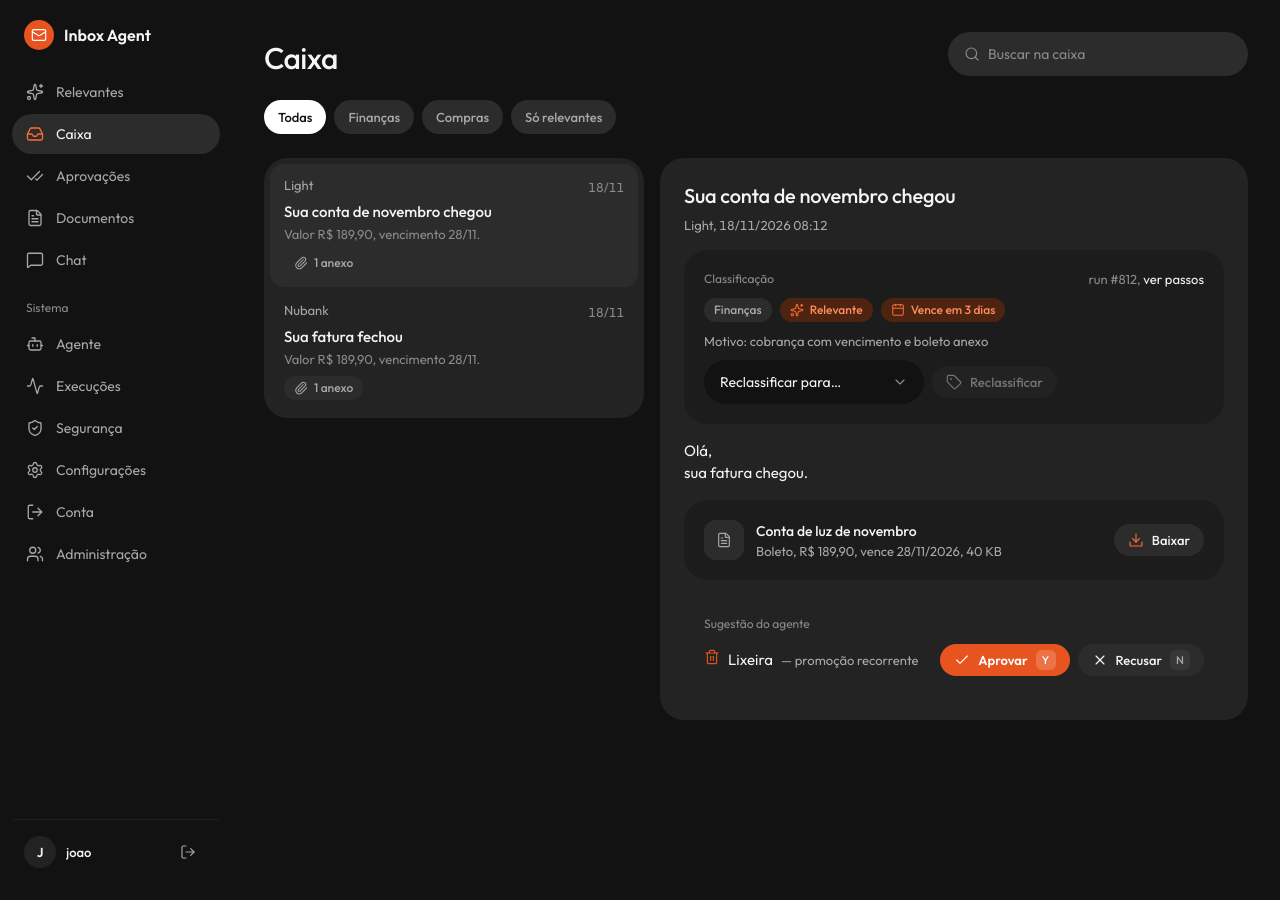
reclassify_needs_a_category_then_posts_it
The image size is (1280, 900).
Expected: the button "Reclassificar" is disabled, [932,366,1057,398]
Select "Compras" in the dropdown named "Nova categoria" at x=802, y=382, box [720,372,884,392]
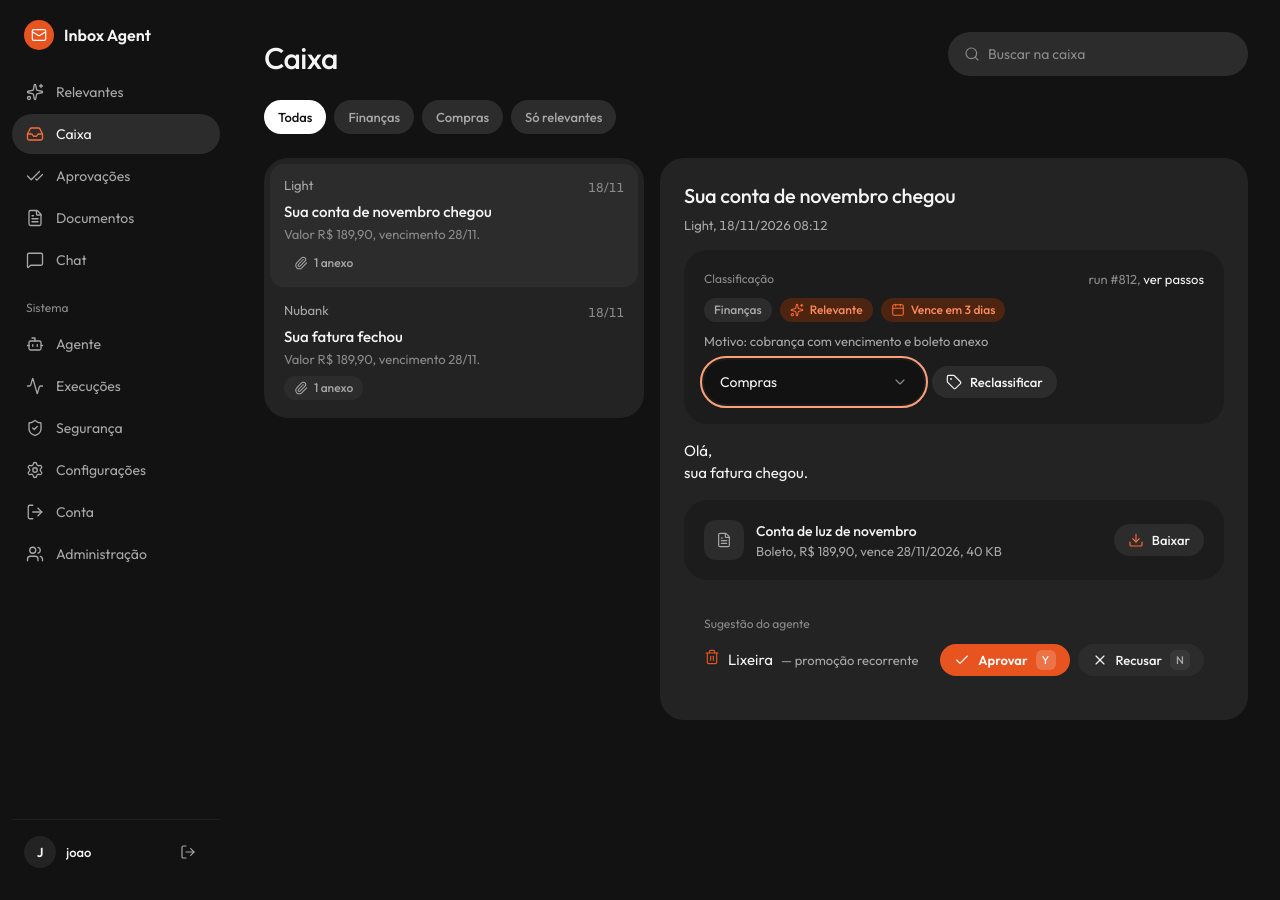
Click the button "Reclassificar" at x=994, y=382, box [932,366,1057,398]
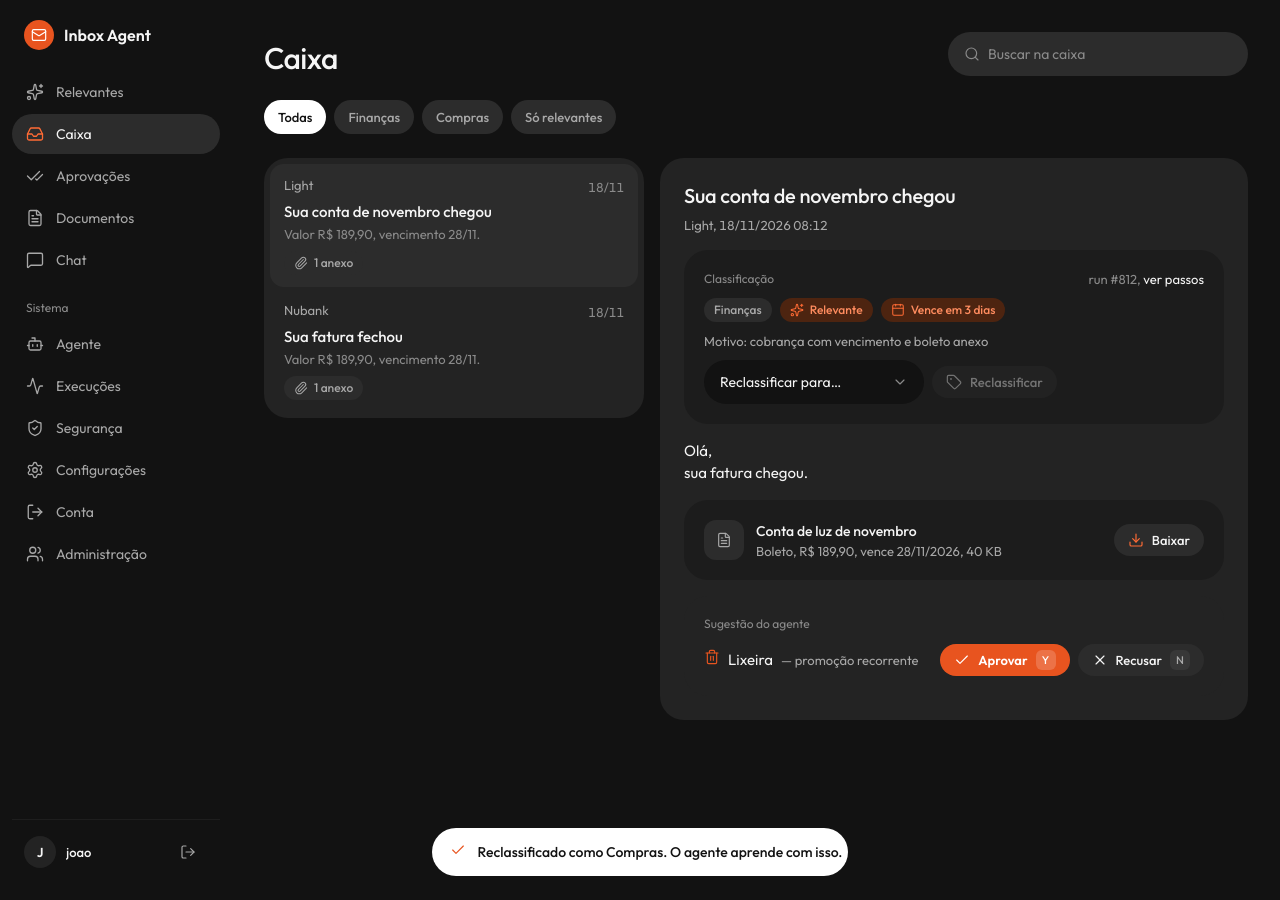
Expected: the text "Reclassificado como Compras. O agente aprende com isso." is shown, [478,843,842,861]
